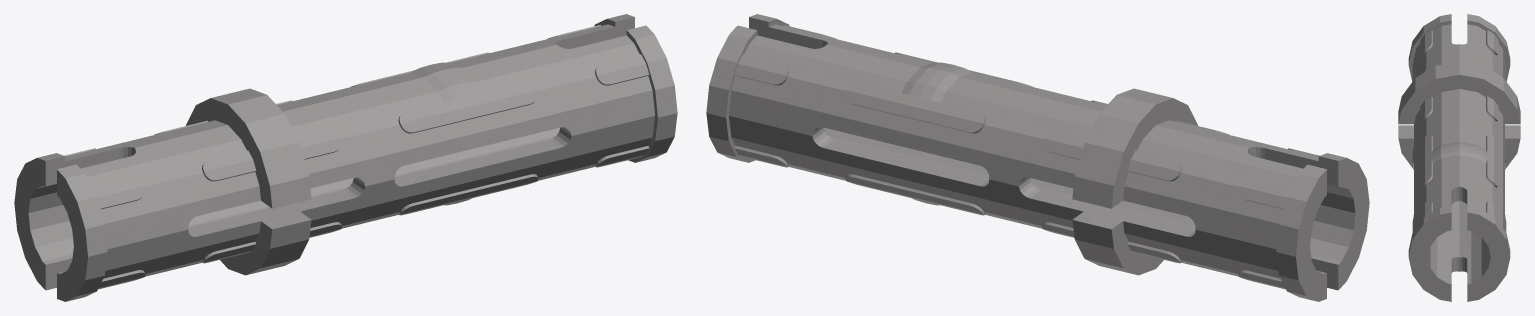
The picture shows the model from 3 angles, left to right: view 1: azimuth 30°, elevation 25°; view 2: azimuth 150°, elevation 25°; view 3: azimuth 270°, elevation 25°; orthographic projection. The views are drawn at different scales.
Visible parts, largest first — view 1: node; view 2: node; view 3: node.
Part boxes in pixels (box(x1,y1,x2,y2)): node: box(14, 14, 677, 301); node: box(706, 14, 1369, 301); node: box(1398, 14, 1520, 301).
Size of the model in its own units: 60 by 16 by 15.6.
1 material, 1 textured.
